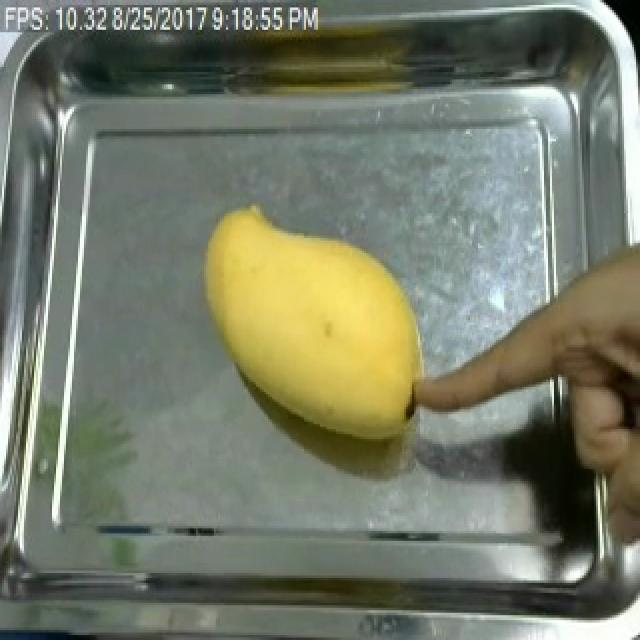fruit: (188, 198, 440, 462), (572, 228, 640, 407)
